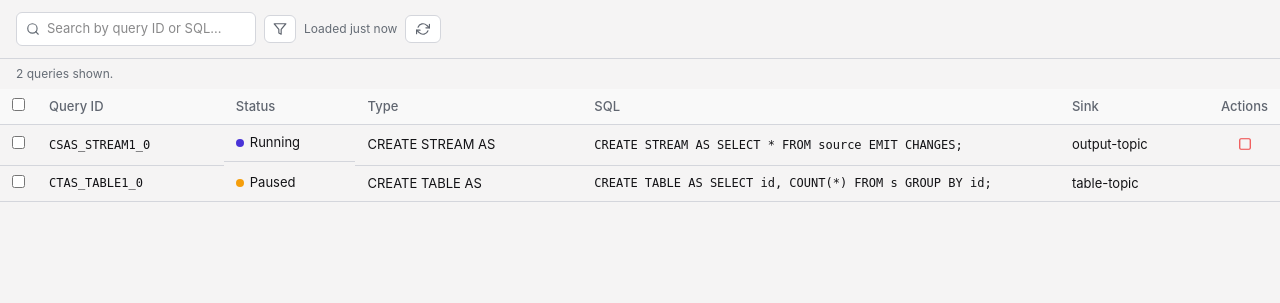
Scenario: [@ksql-queries] KsqlQueriesPage › navigates to detail view on row click
Expected: the text "CSAS_STREAM1_0" is shown, [37, 124, 224, 165]
Click the text "CSAS_STREAM1_0".
click(640, 145)  # box [0, 124, 1279, 165]
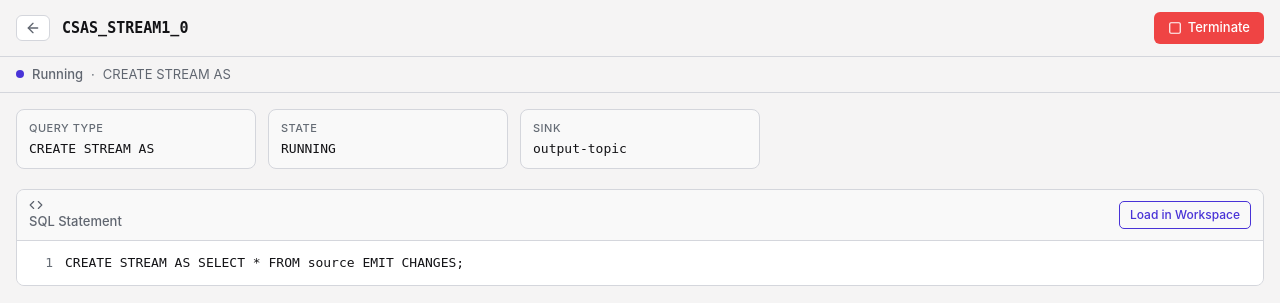
Expected: the button titled "Back to list" is shown, [16, 15, 50, 41]
